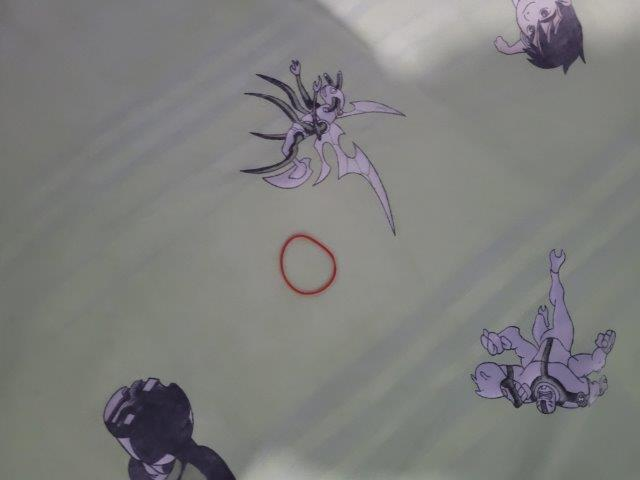karet: (280, 231, 337, 295)
